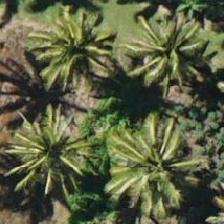coconut_tree: (110, 109, 200, 199), (9, 104, 99, 194), (125, 7, 215, 97), (27, 0, 117, 87)
